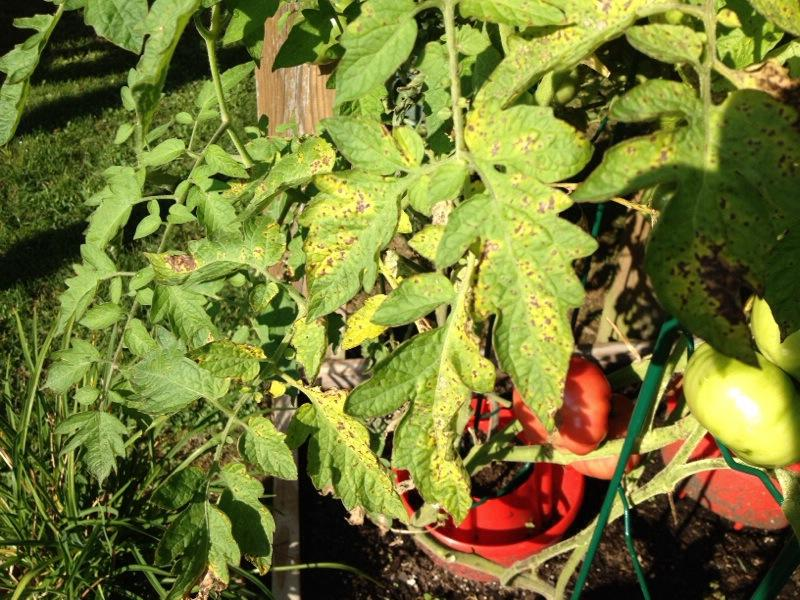Tomato Septoria leaf spot: (424, 100, 595, 425), (608, 65, 790, 368), (354, 310, 506, 499), (264, 385, 416, 543), (479, 1, 668, 102), (295, 168, 397, 319), (184, 329, 272, 388)
